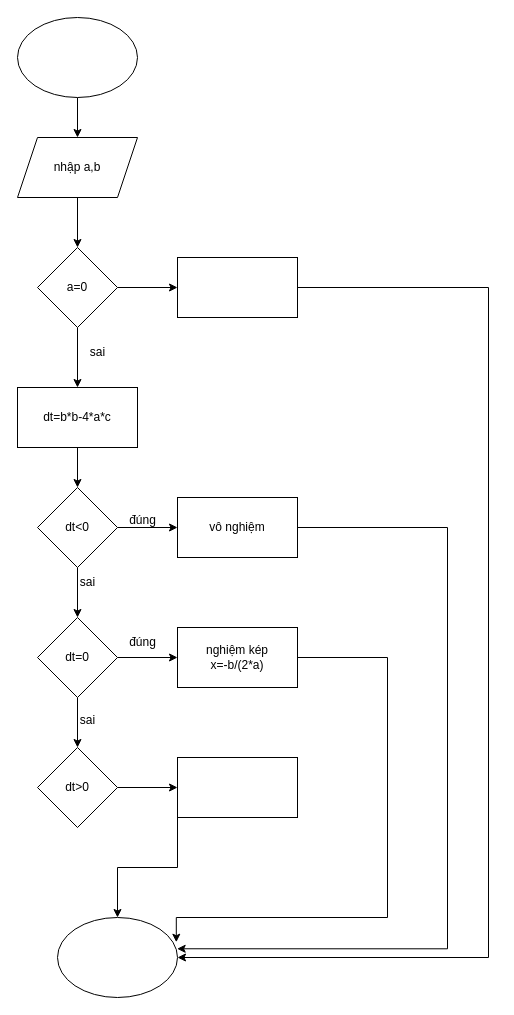
Image size: 514x1015. Some labels were removed from this diagram. The centre of each missing label's shape, as x and y in pixels:
end: pixel 117 957
phương trình có 2 nghiệm phân biệt: pixel 237 787
START: pixel 77 57
x=-c/b: pixel 237 287
